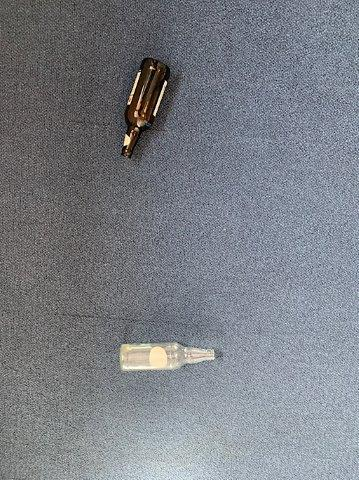botolkaca: (119, 59, 170, 158), (119, 342, 216, 372)
